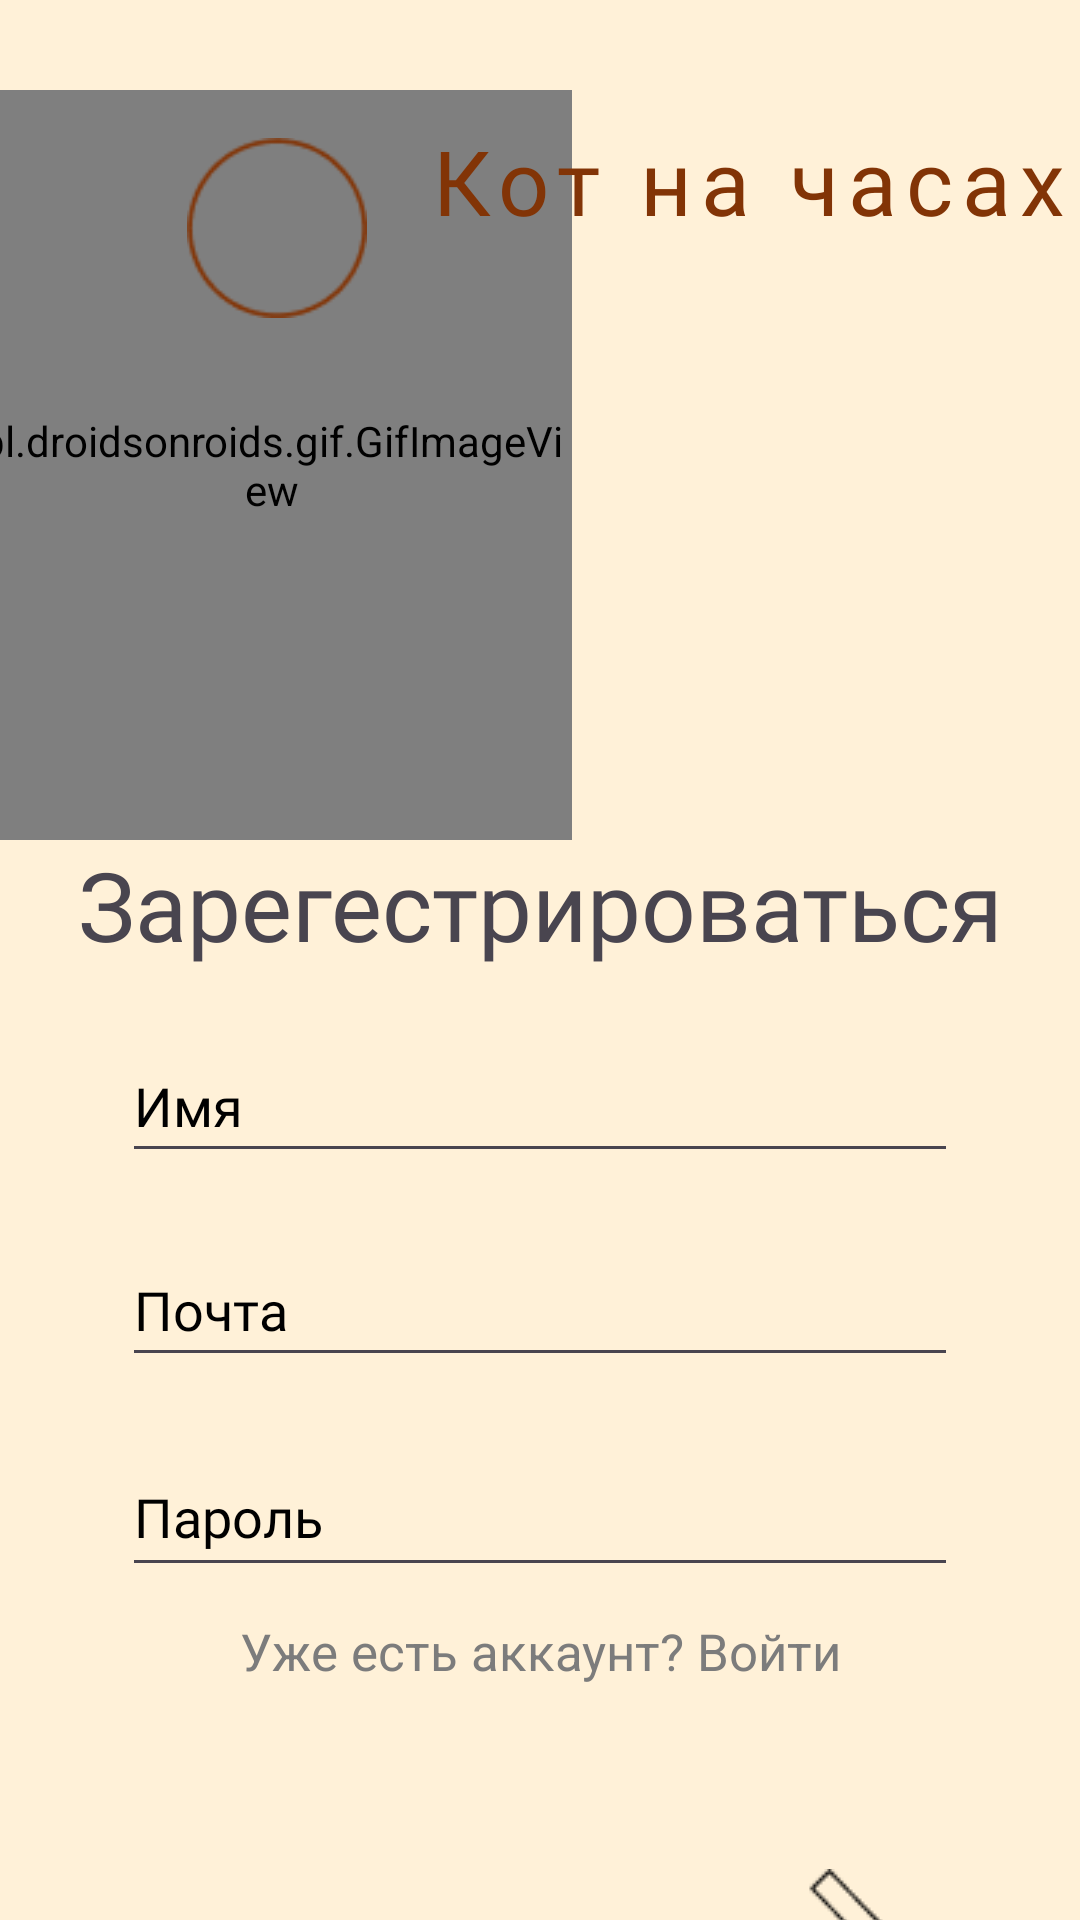

Named icons in this screenshot (1080×1920) and their centers, point (x, y):
Circle: point (277, 228)
